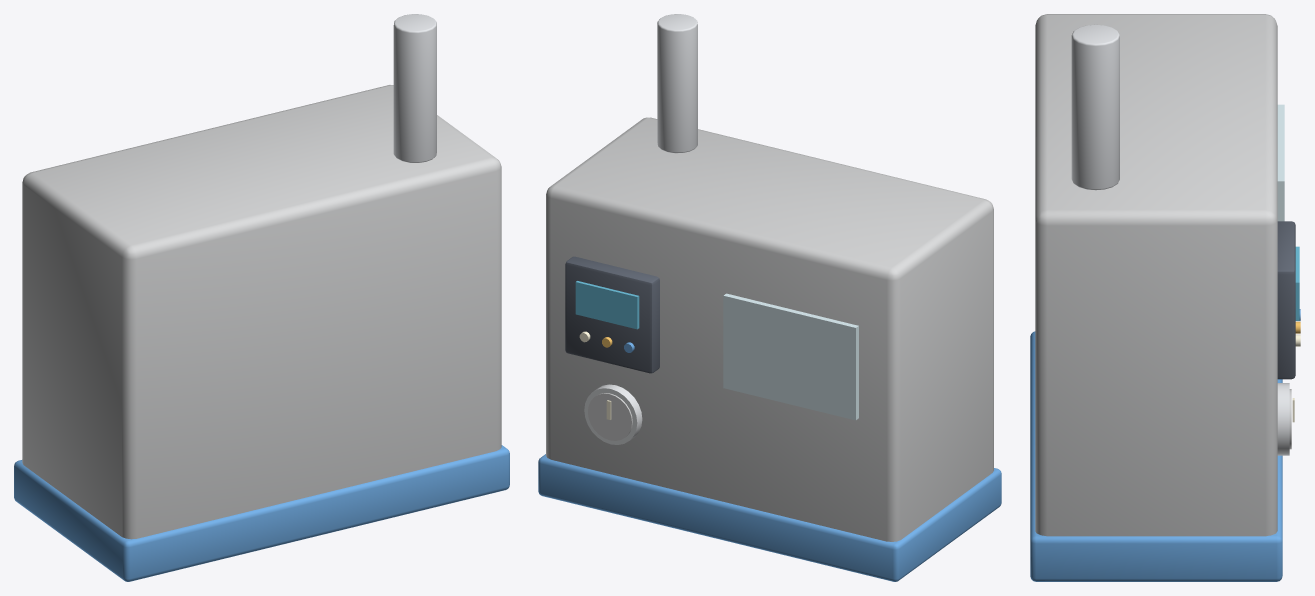
Rendered from UHT.fbx.
3 views of the same model, side by side, from view 1: azimuth 30°, elevation 25°; view 2: azimuth 150°, elevation 25°; view 3: azimuth 270°, elevation 25° (orthographic). The views are drawn at different scales.
Visible parts, largest first — view 1: Maszyna_UHT_Korpus; view 2: Maszyna_UHT_Korpus; view 3: Maszyna_UHT_Korpus.
Boxes of the visible parts, left/top/right/bottom form: Maszyna_UHT_Korpus: left=14, top=14, right=509, bottom=581; Maszyna_UHT_Korpus: left=538, top=14, right=1001, bottom=581; Maszyna_UHT_Korpus: left=1030, top=14, right=1300, bottom=581.
Bounding box in the file's own units: 2.45 × 2.96 × 1.34.
